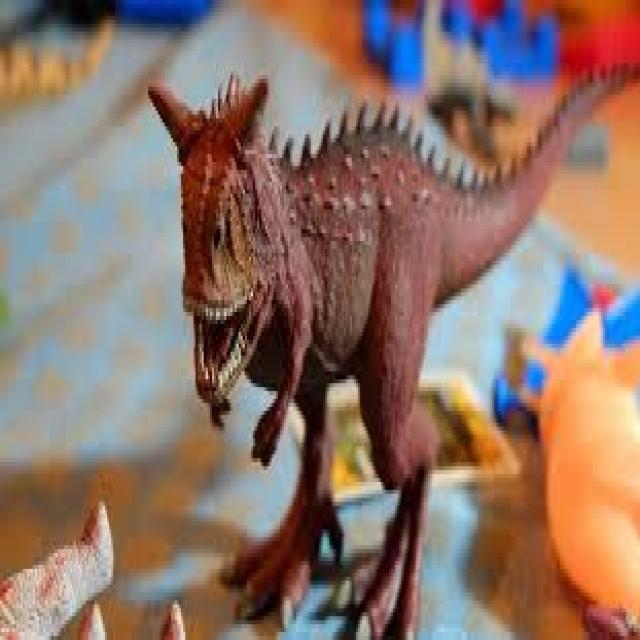hard-toy: (152, 80, 590, 638)
